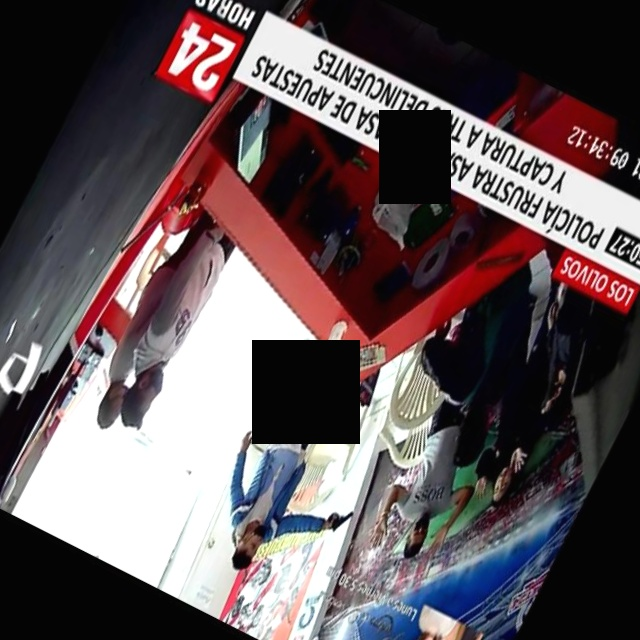gun: (315, 490, 362, 551)
